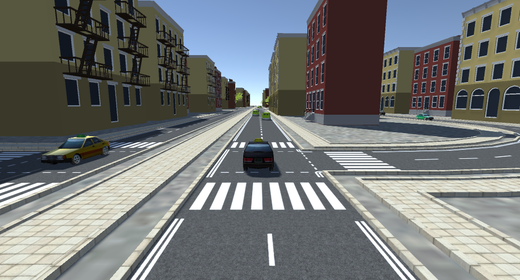centerstrip: (253, 112, 280, 274), (393, 153, 520, 163)
sidestripe: (278, 126, 406, 280), (132, 114, 252, 278)
